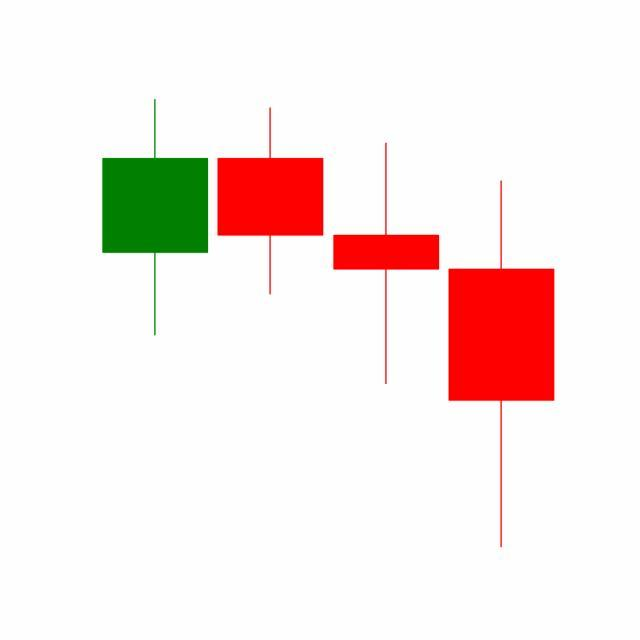Spinning Top: (329, 140, 445, 387)
